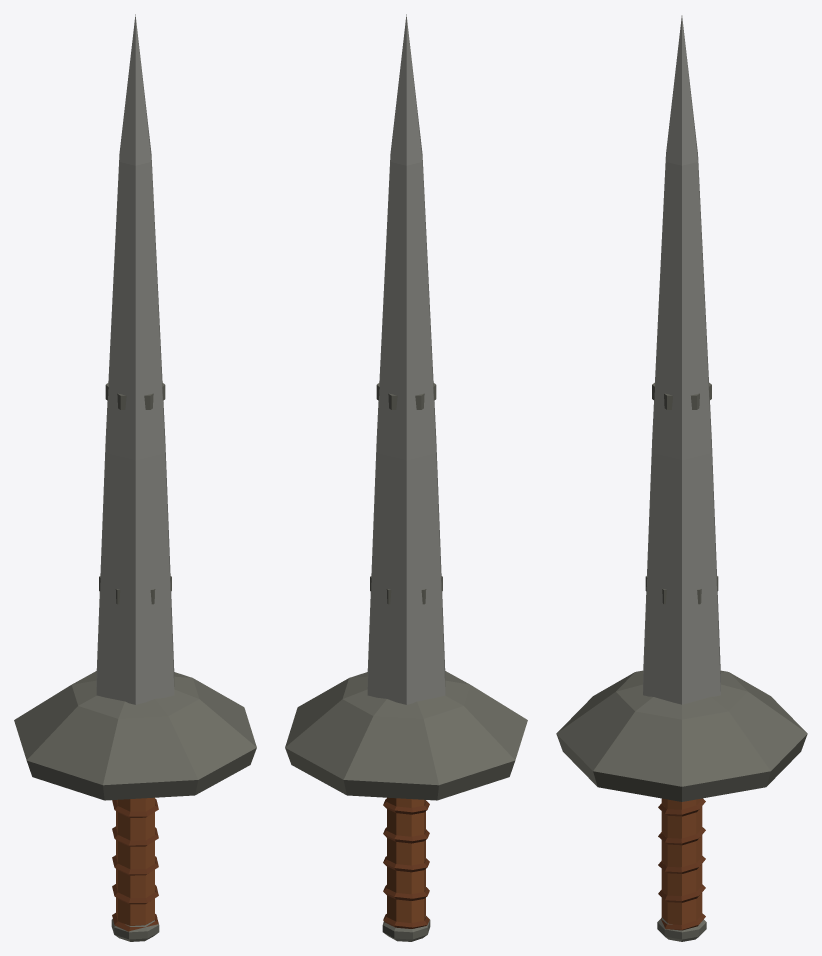
Rendered from StoneLance.fbx.
3 renders of one model, left to right at view 1: azimuth 30°, elevation 25°; view 2: azimuth 150°, elevation 25°; view 3: azimuth 270°, elevation 25°, orthographic.
Visible parts, largest first — view 1: StoneLance; view 2: StoneLance; view 3: StoneLance.
Boxes of the visible parts, <box> form: StoneLance: <box>14,14,256,941</box>; StoneLance: <box>285,14,527,941</box>; StoneLance: <box>556,15,807,941</box>.
Bounding box in the file's own units: 1.9 × 7.67 × 1.9.
1 material, 1 textured.
